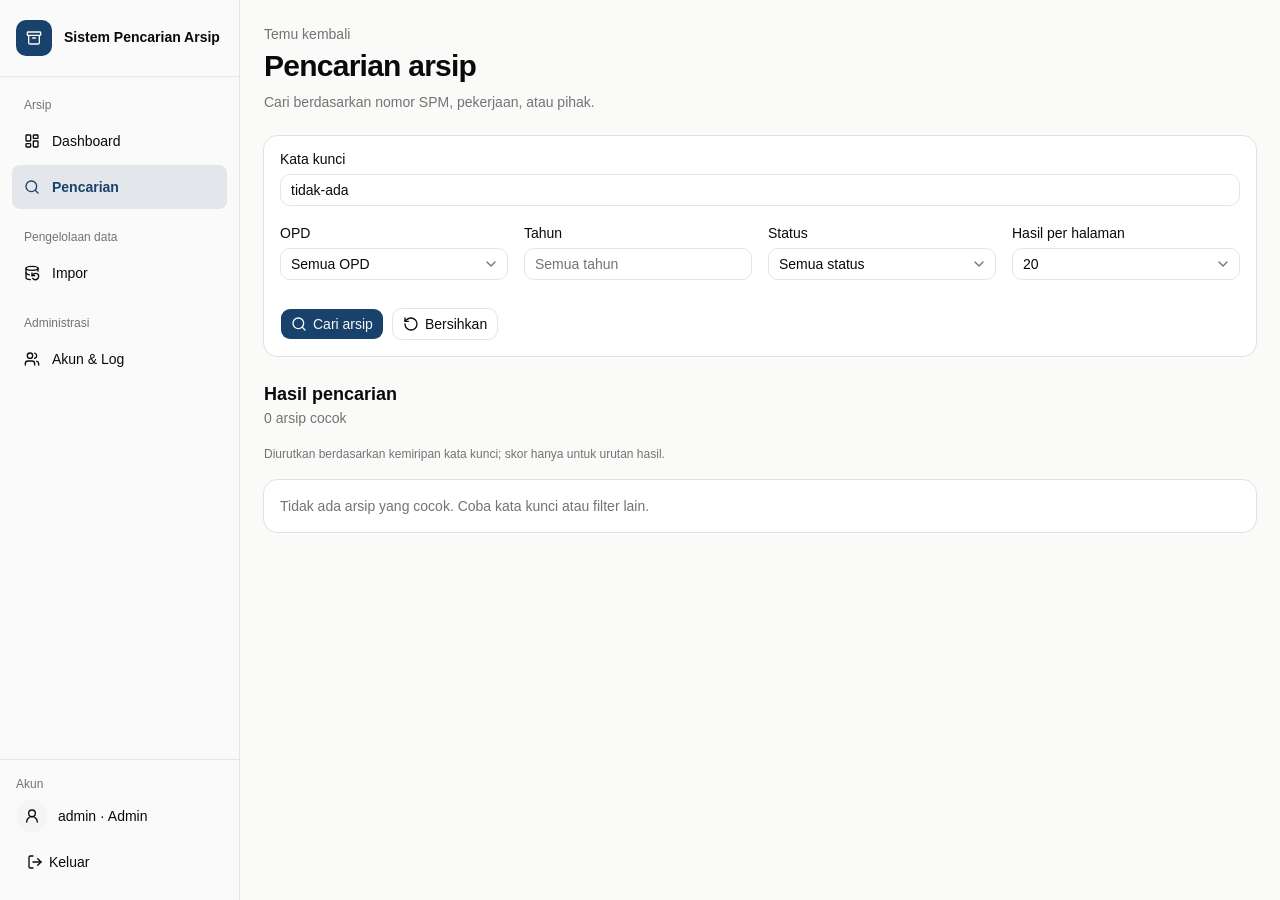
Scenario: pencarian arsip React › menampilkan hasil kosong dan membolehkan membersihkan pencarian
Expected: the text "Tidak ada arsip yang cocok. Coba kata kunci atau filter lain." is shown, top-left (280, 498), bottom-right (649, 514)
Click the button "Bersihkan": click(445, 324) top-left (392, 308), bottom-right (498, 340)
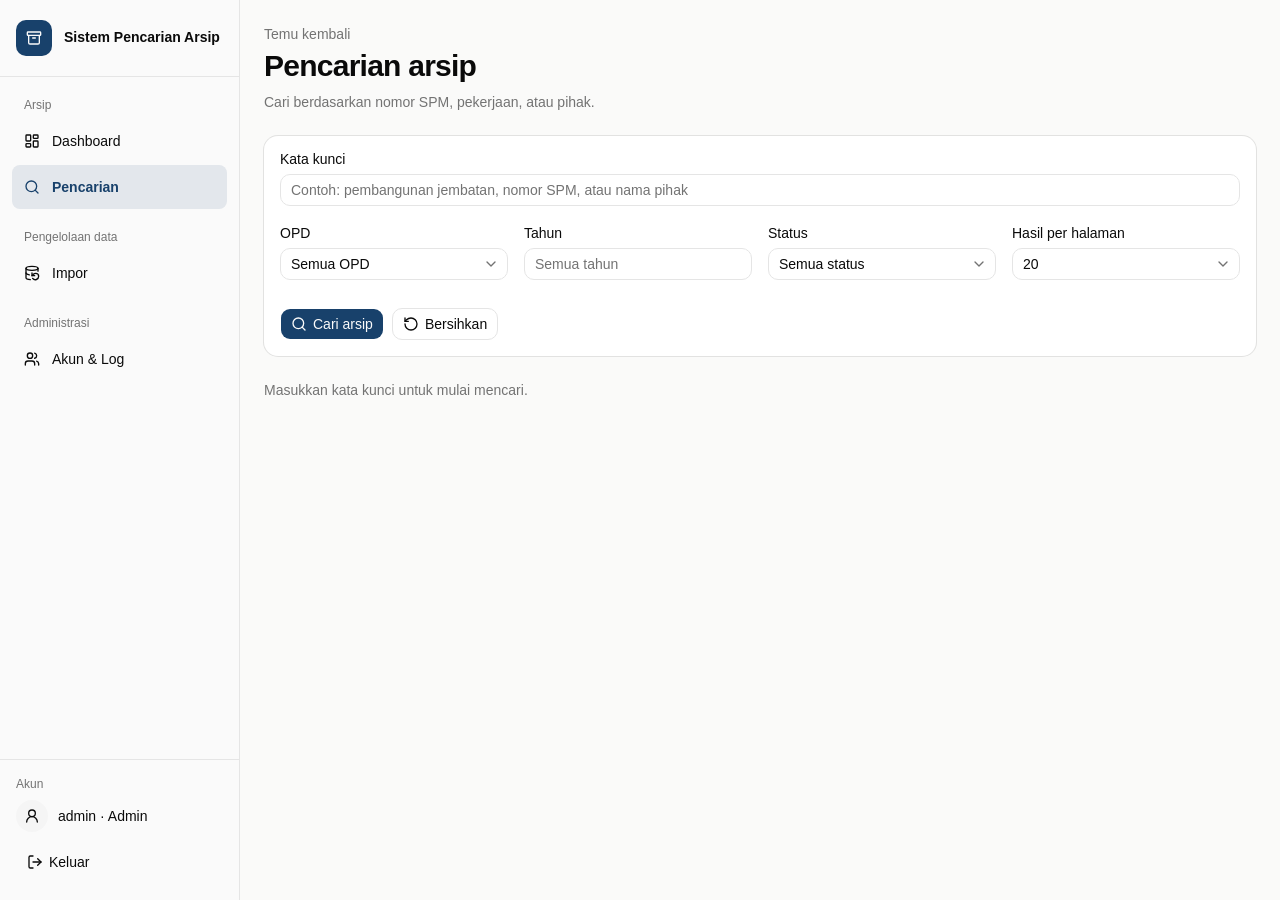
Now the text "Masukkan kata kunci untuk mulai mencari." is shown, box top-left (264, 382), bottom-right (528, 398)
